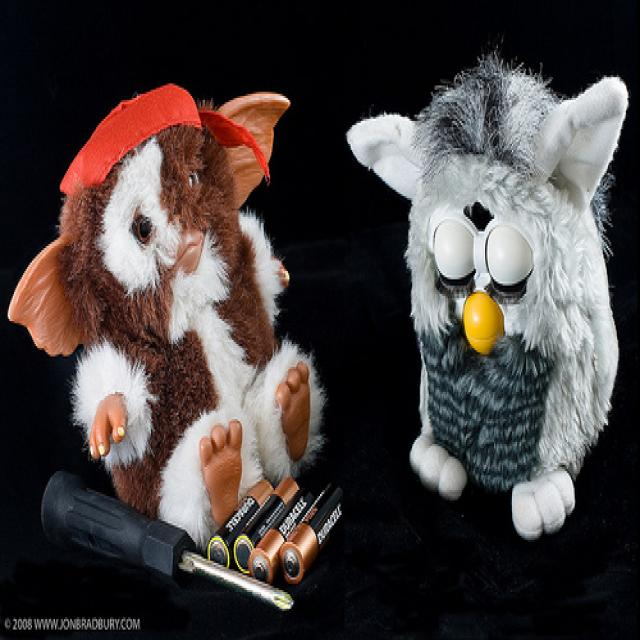screw driver: (23, 440, 317, 640)
